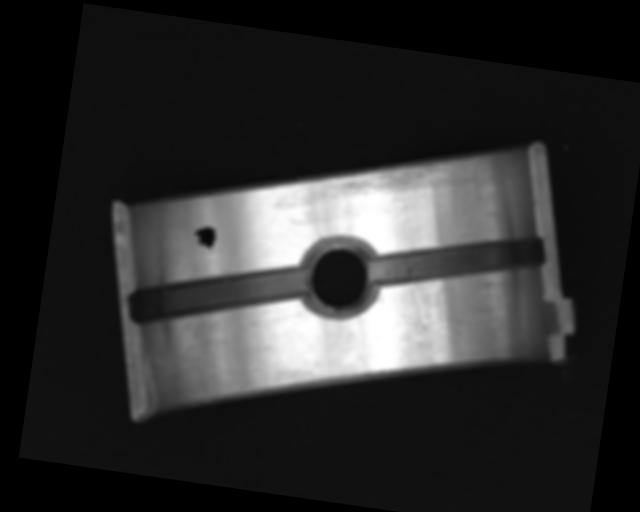blot: (190, 222, 220, 254)
bruise: (445, 316, 469, 338), (247, 361, 262, 377)
gap: (129, 244, 310, 344), (367, 215, 549, 306)
hole: (295, 229, 384, 324)
nick: (400, 282, 434, 345)
scratch: (323, 135, 482, 214)
